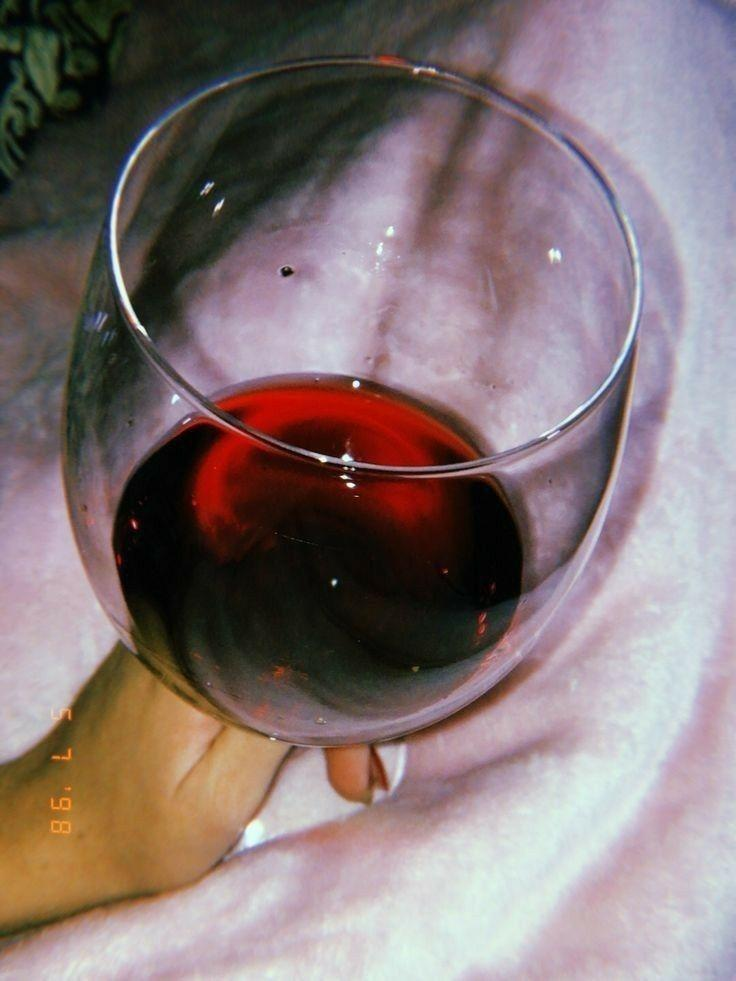glass-wine: (56, 54, 652, 769)
